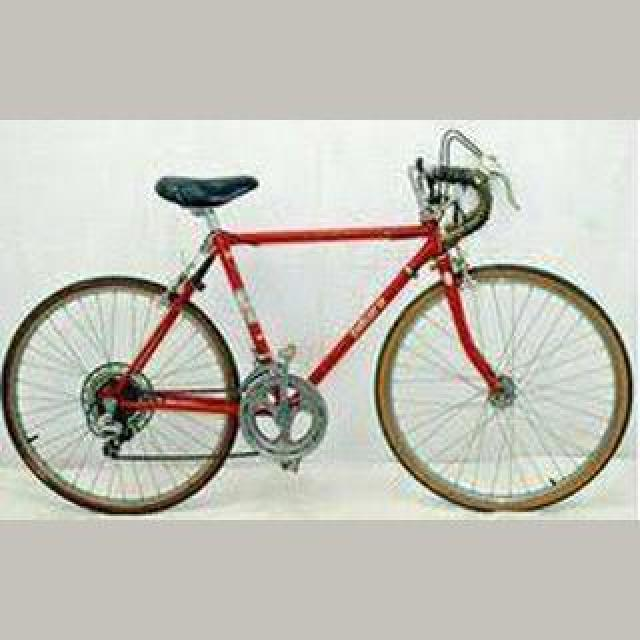Person: (3, 128, 635, 518)
